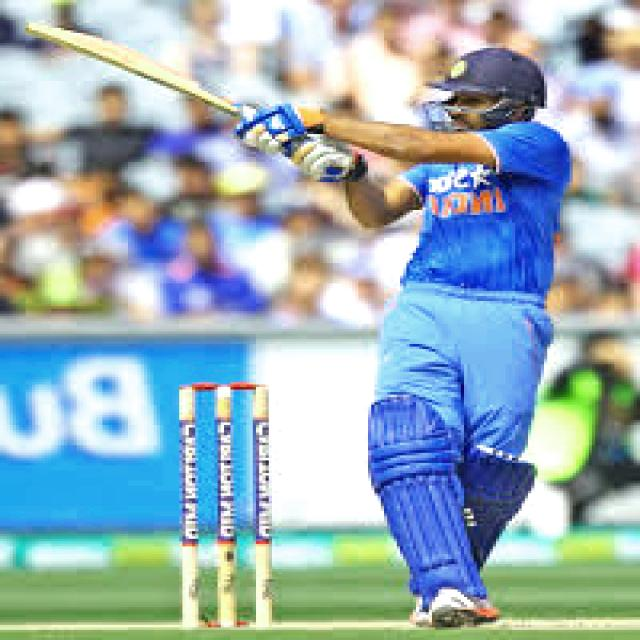toe: (14, 11, 46, 44)
